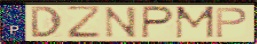D: (29, 5, 64, 39)
M: (174, 5, 216, 40)
N: (103, 6, 139, 39)
P: (140, 5, 176, 40), (215, 6, 249, 39)
Z: (65, 5, 103, 40)
